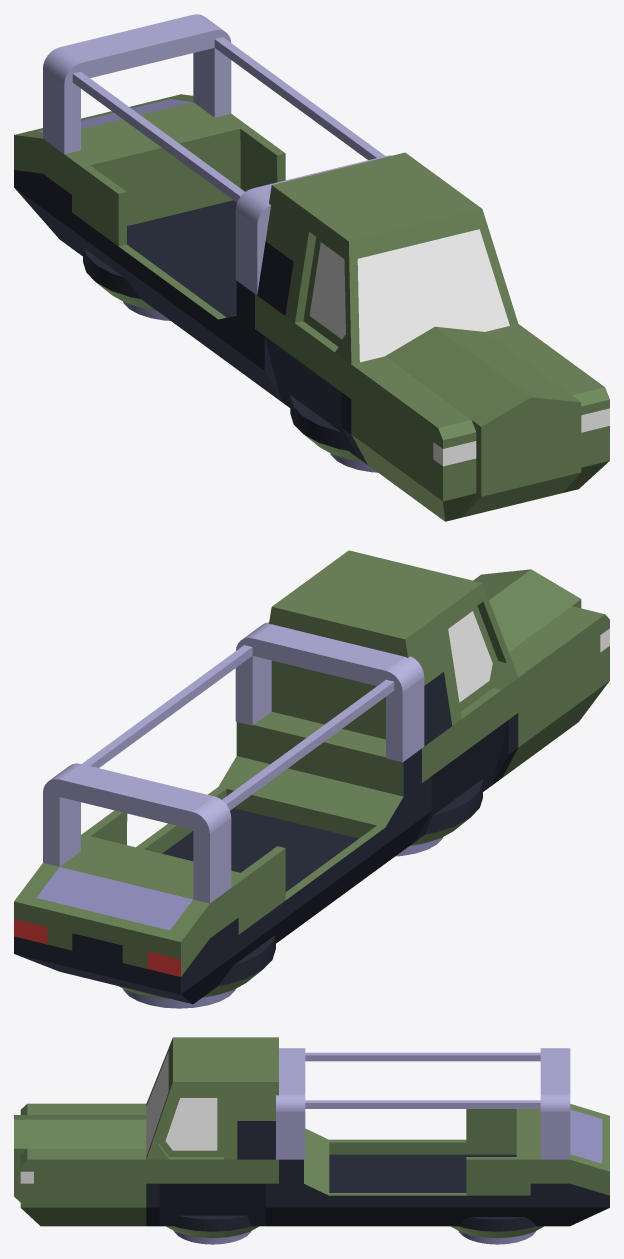
File: car5.obj
3 renders of one model, top to bottom at view 1: azimuth 30°, elevation 25°; view 2: azimuth 150°, elevation 25°; view 3: azimuth 270°, elevation 25°, orthographic. The views are drawn at different scales.
Visible parts, largest first — view 1: mergedBlocks; view 2: mergedBlocks; view 3: mergedBlocks.
Part boxes in pixels (box(x1,y1,x2,y2)): mergedBlocks: box(14, 14, 609, 521); mergedBlocks: box(14, 550, 609, 1008); mergedBlocks: box(14, 1037, 609, 1244).
Size of the model in its own units: 1 by 1.4 by 4.5.
